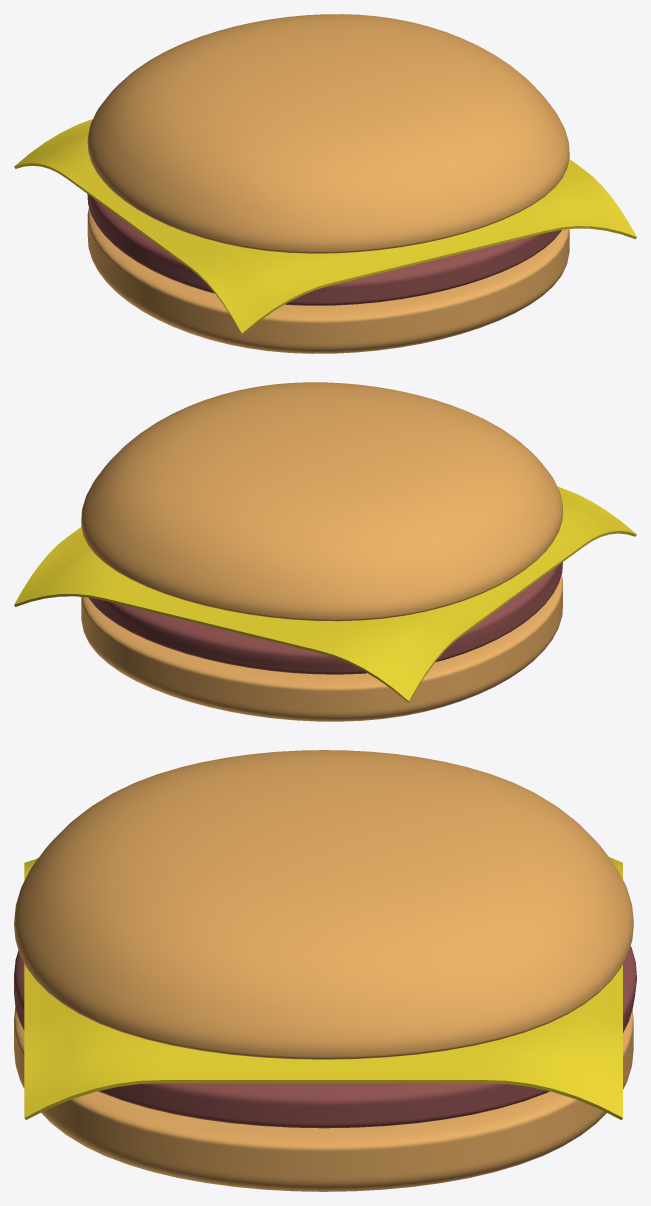
File: hamburger.glb
The picture shows the model from 3 angles, top to bottom: view 1: azimuth 30°, elevation 25°; view 2: azimuth 150°, elevation 25°; view 3: azimuth 270°, elevation 25°; orthographic projection. The views are drawn at different scales.
Visible parts, largest first — view 1: Cube.002, Plane, Cube, Cube.001; view 2: Cube.002, Plane, Cube, Cube.001; view 3: Cube.002, Cube, Plane, Cube.001.
Boxes of the visible parts, <box> form: Cube.002: <box>87,14,569,253</box>; Plane: <box>14,119,636,334</box>; Cube: <box>87,208,569,353</box>; Cube.001: <box>87,194,561,305</box>; Cube.002: <box>81,382,562,621</box>; Plane: <box>14,487,636,702</box>; Cube: <box>81,575,562,721</box>; Cube.001: <box>88,562,562,674</box>; Cube.002: <box>14,750,633,1059</box>; Cube: <box>14,1008,633,1191</box>; Plane: <box>24,857,622,1119</box>; Cube.001: <box>14,946,636,1128</box>.
Size of the model in its own units: 7.59 by 3.66 by 7.63.
